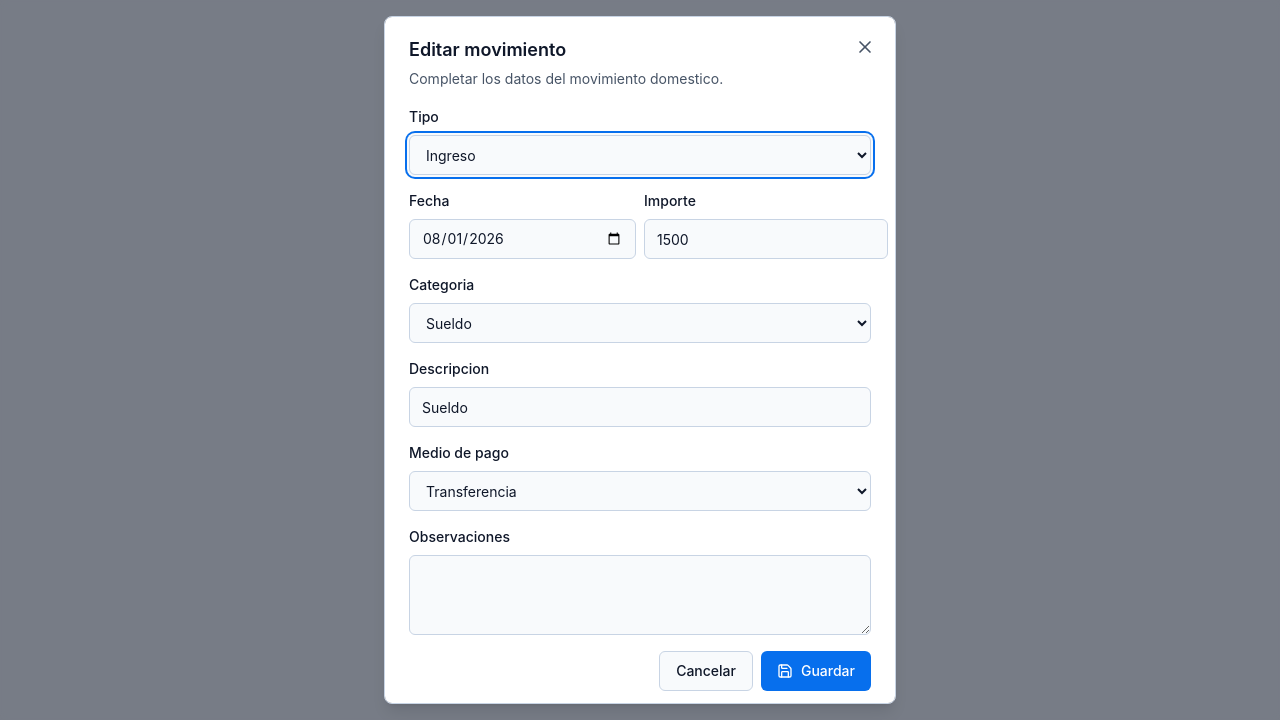
Scenario: TransactionFormDialog › TransactionFormDialog_WhenTypeChanges_ShouldClearIncompatibleCategory
Expected: the dropdown labelled "Categoria" shows "Sueldo", [409,303,871,343]
Select "Egreso" in the dropdown labelled "Tipo" at point(640, 155), box [409,135,871,175]
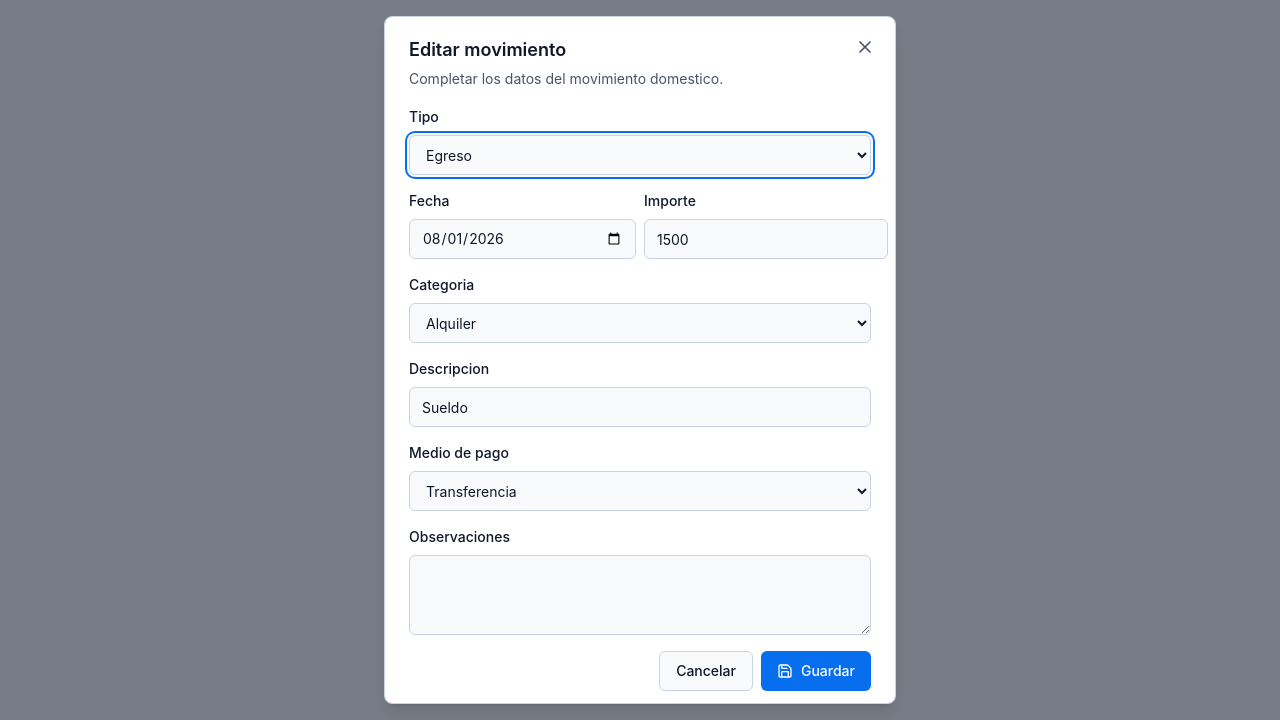
Expected: the dropdown labelled "Categoria" shows "Alquiler", [409,303,871,343]
